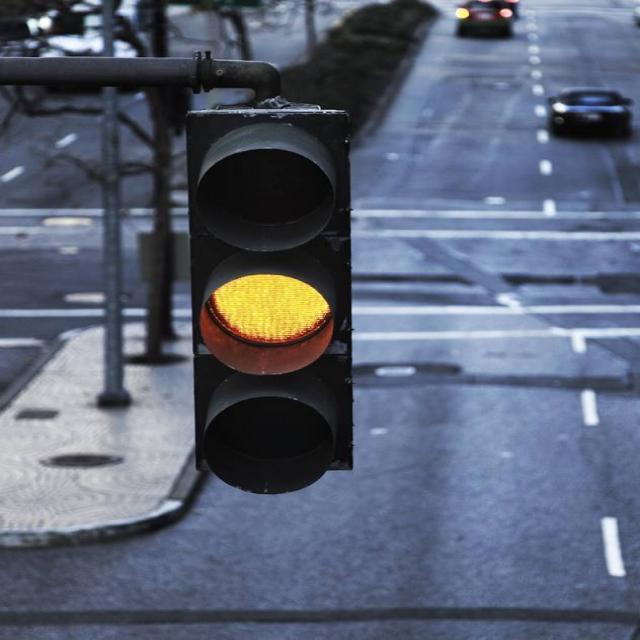yellow_light: (186, 99, 350, 489)
